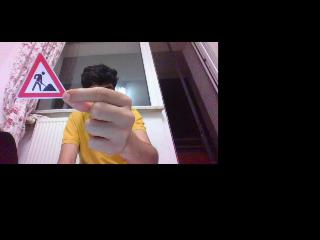construction: (18, 53, 66, 97)
